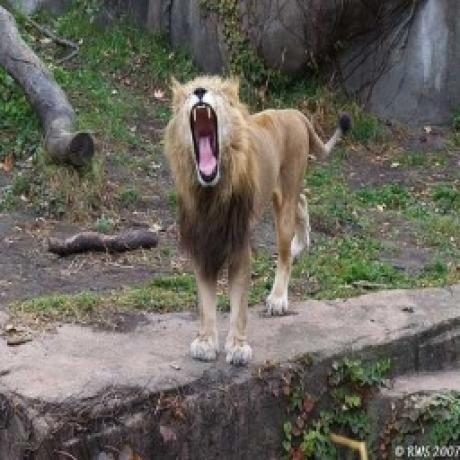Lion: (162, 74, 354, 363)
